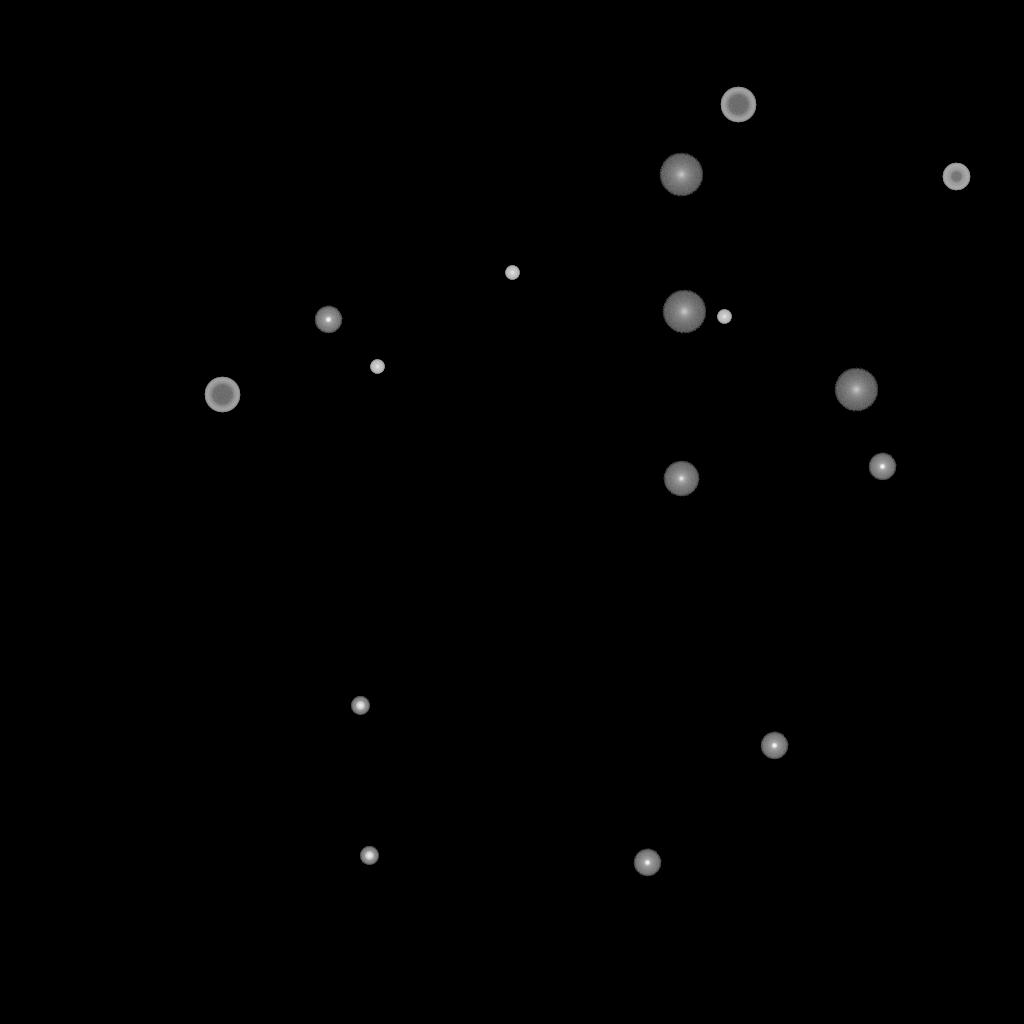depth:-10: (868, 453, 896, 481), (760, 732, 788, 760), (633, 849, 661, 877), (314, 306, 342, 334)
depth:-20: (360, 847, 378, 865), (351, 697, 369, 715)
depth:-30: (717, 310, 731, 324), (370, 360, 384, 374), (505, 266, 519, 280)
depth:-50: (942, 163, 970, 191)
depth:-60: (204, 377, 240, 413), (720, 87, 756, 123)
depth:0: (663, 461, 699, 497)
depth:10: (659, 153, 703, 197), (834, 368, 878, 412), (662, 290, 706, 334)
